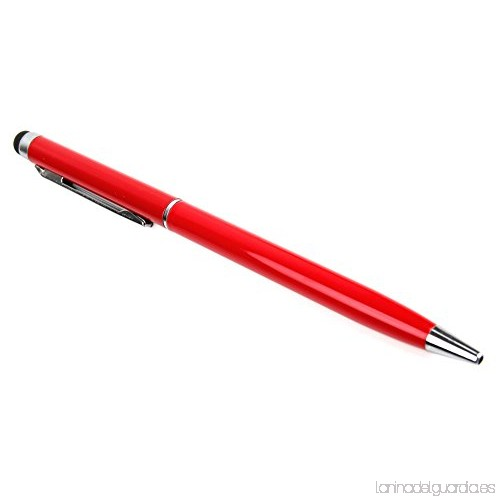Boligrafo: (9, 126, 487, 375)
